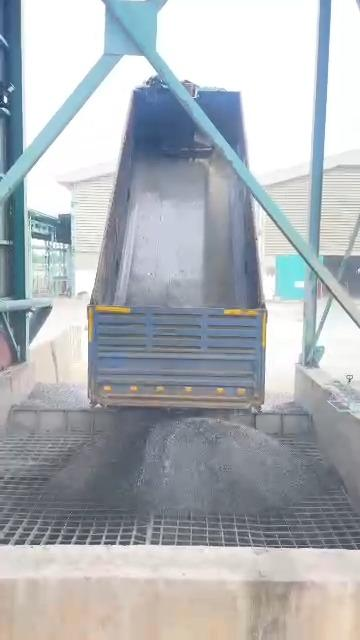gravel: (54, 409, 319, 511), (30, 386, 84, 407)
